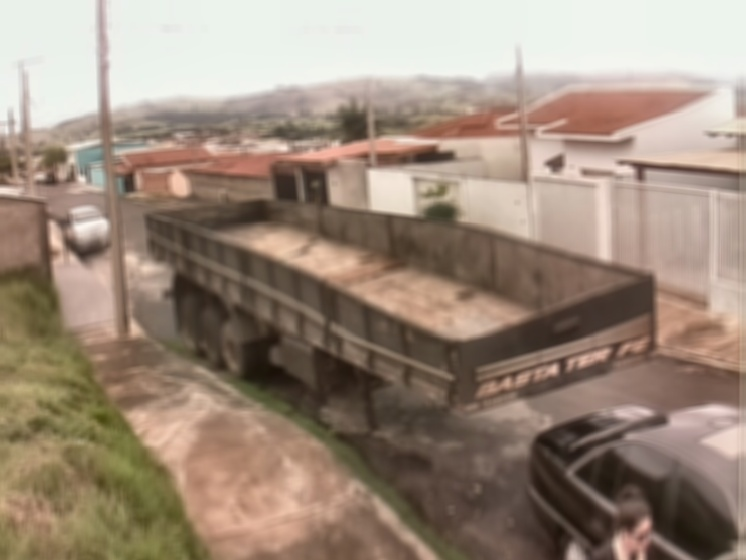person: (572, 486, 659, 560)
